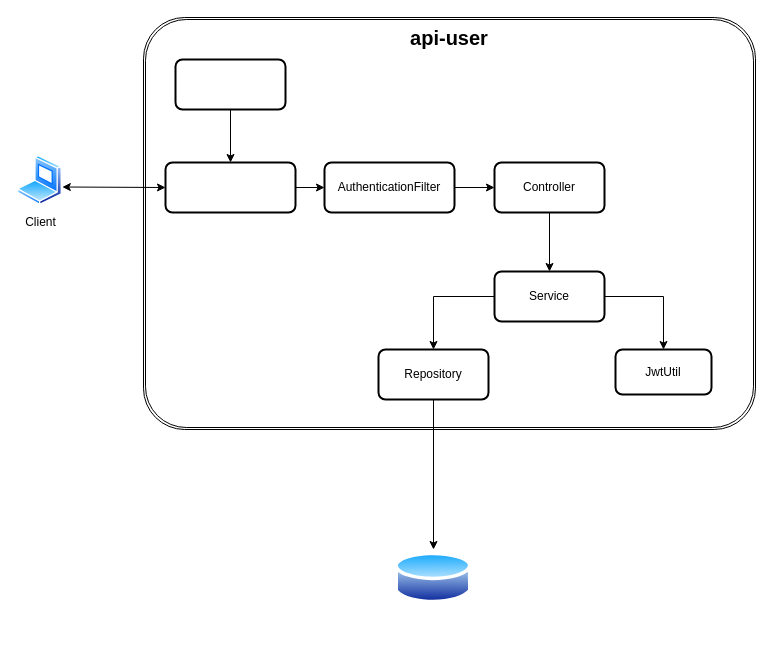
The diagram is 773 pixels wide and 648 high, and some of its shapes have lost their labels. The shapes that lost their labels are listed below. From the top down, each one's centre as x and y in pixels, then its label:
At pixel 230 84: "SecurityConfig".
At pixel 230 187: "SecurityFilterChain".
At pixel 433 577: "HSQLDB".
